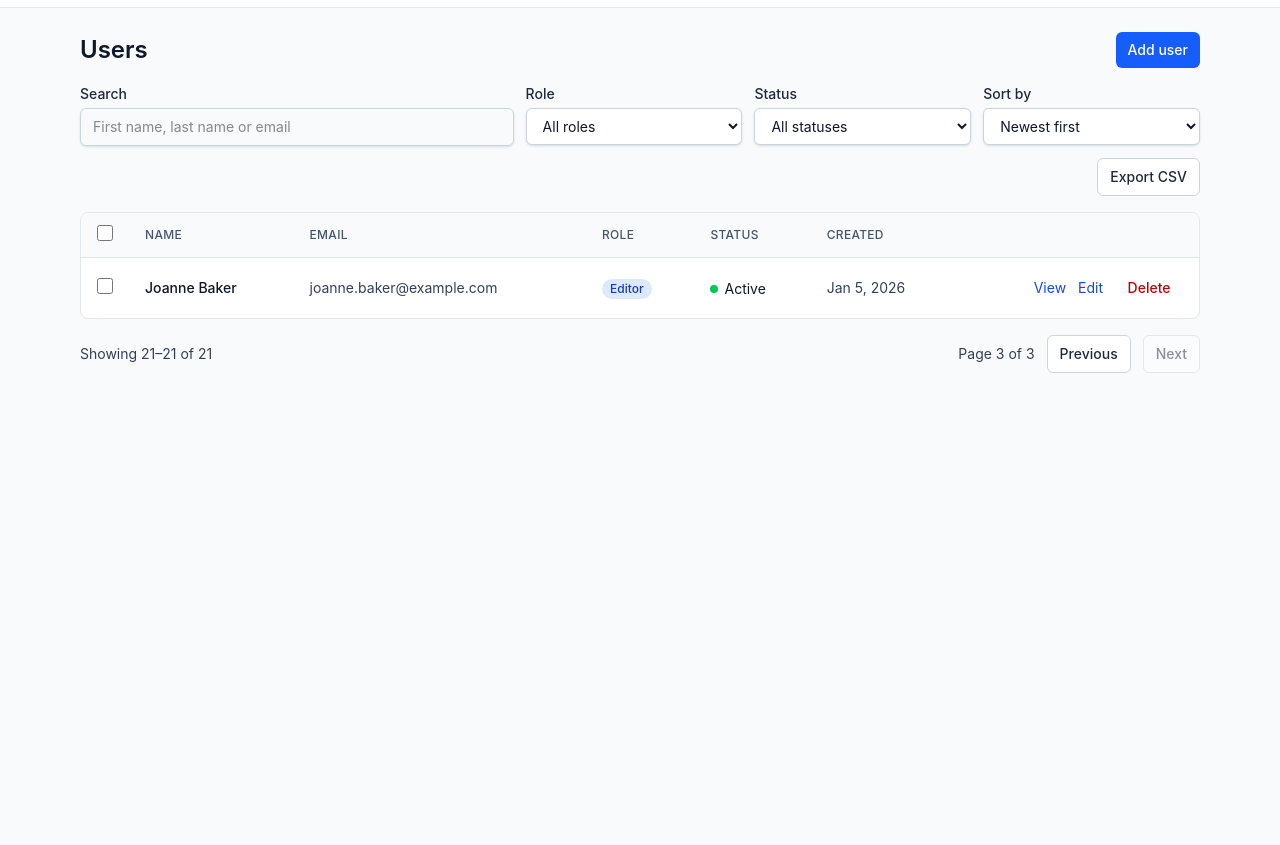
Test: Delete user from the list › goes back one page when the last row of the last page is deleted
Expected: the text "Showing 21–21 of 21" is shown, [80,344,212,364]
Click the button with aria-label "Delete Joanne Baker".
click(1149, 288)  # box [1115,270,1183,306]
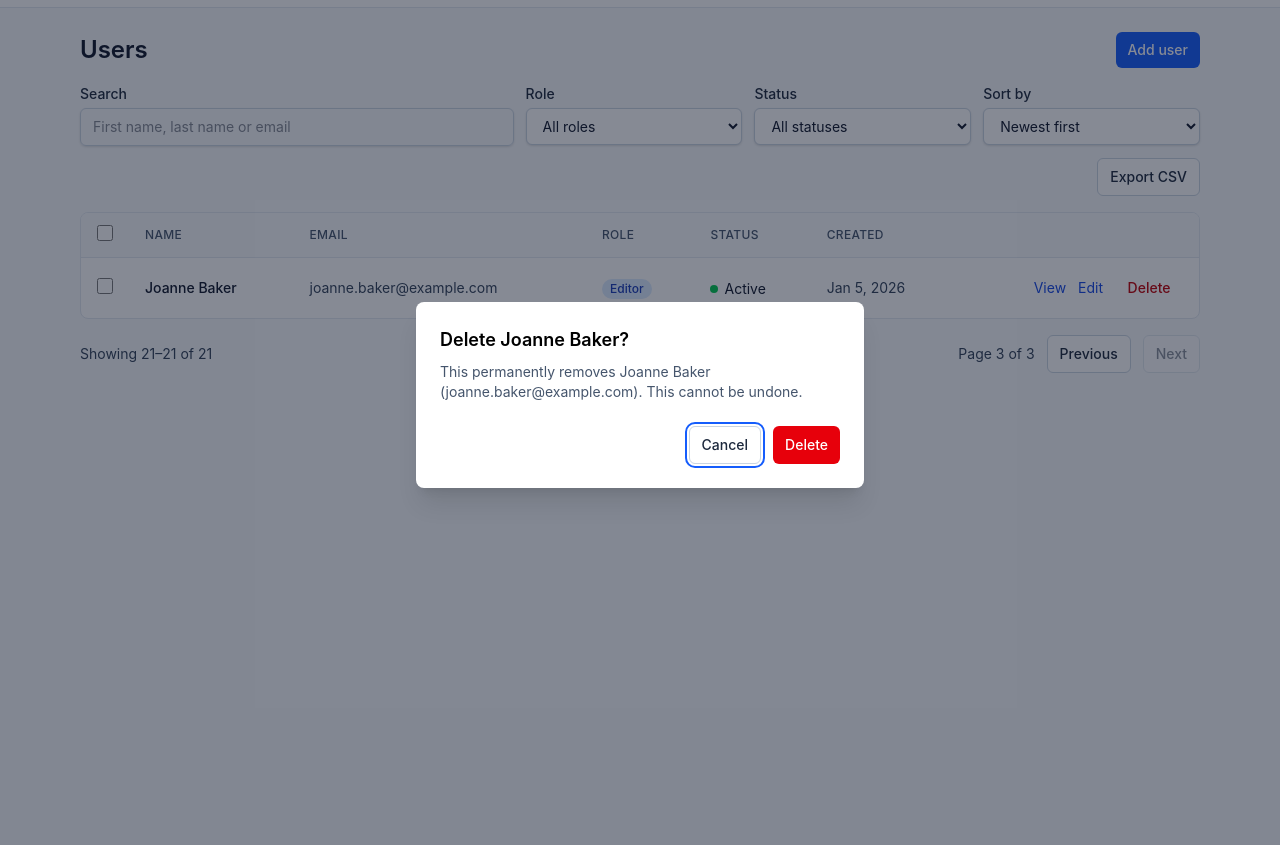
Click the button "Delete".
click(807, 445)  # box [773,426,840,464]
(page scrolled)
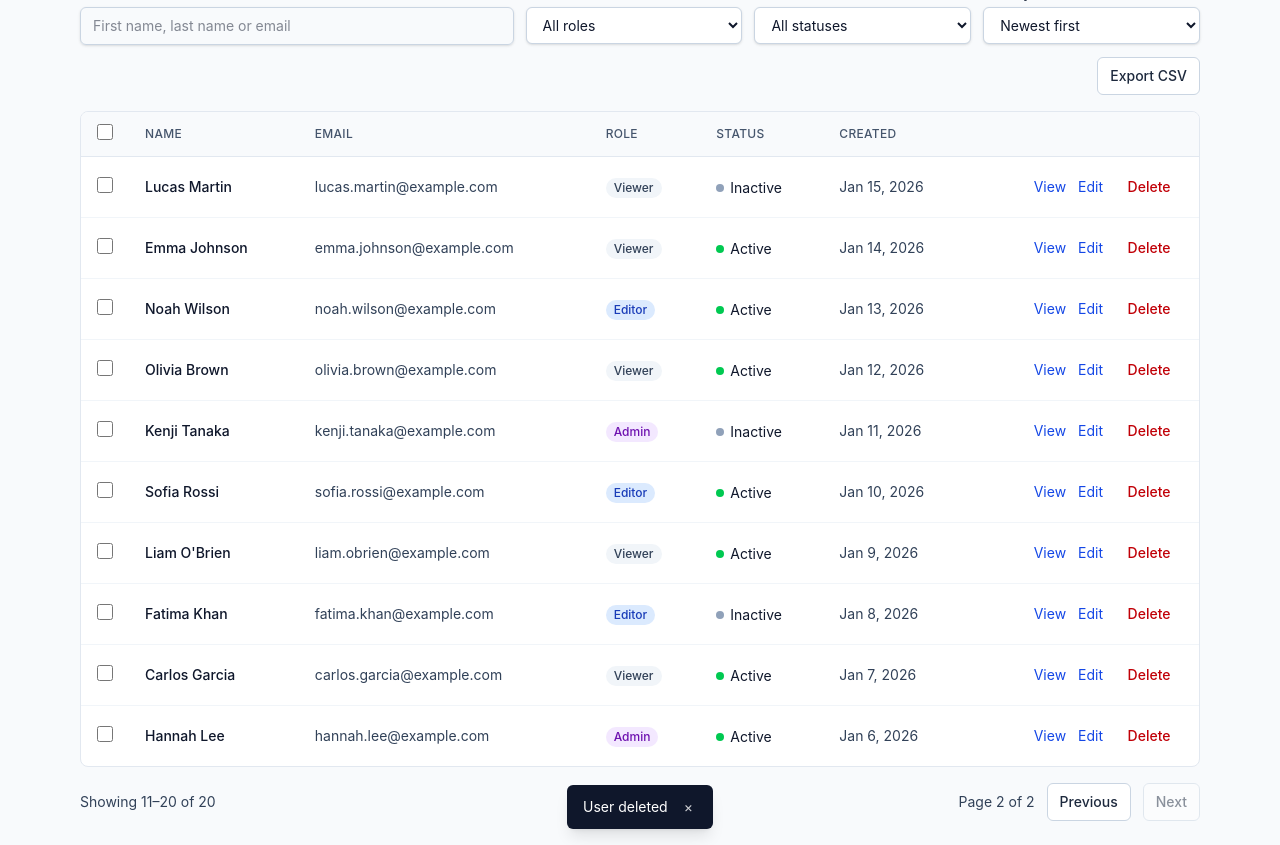
Expected: the text "Showing 11–20 of 20" is shown, [80,792,216,812]
